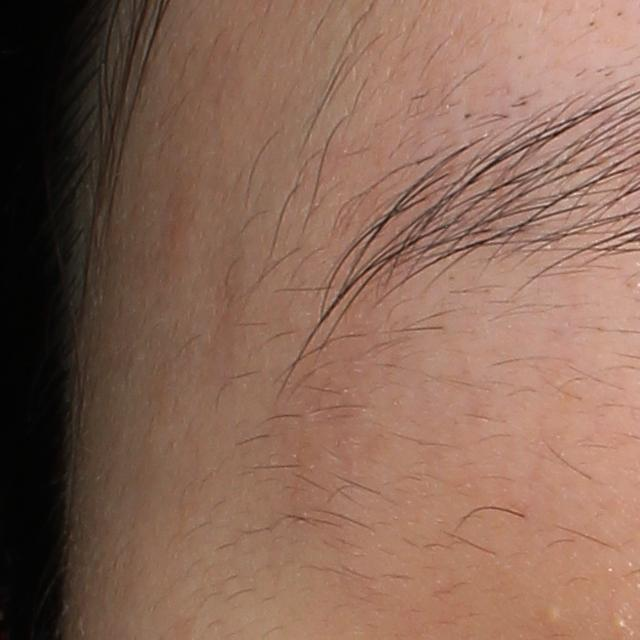other: (537, 601, 562, 625)
